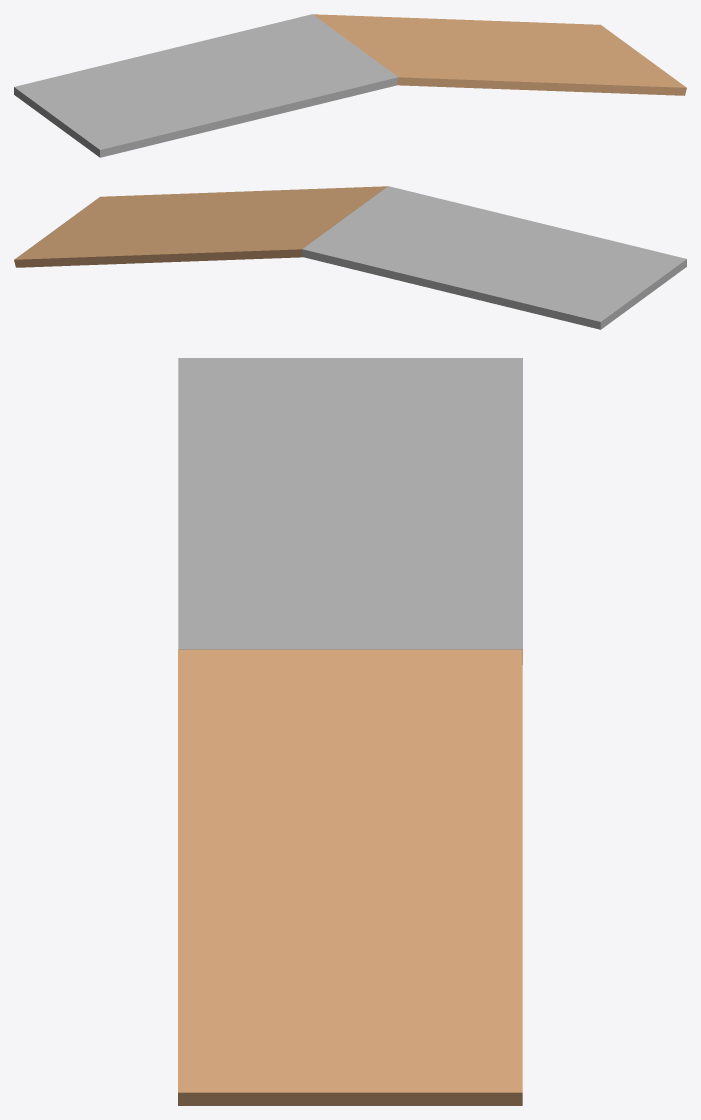
The model's file is backup_ramp_alley.dae.
3 renders of one model, top to bottom at view 1: azimuth 30°, elevation 25°; view 2: azimuth 150°, elevation 25°; view 3: azimuth 270°, elevation 25°, orthographic. The views are drawn at different scales.
Visible parts, largest first — view 1: Alley, Ramp; view 2: Alley, Ramp; view 3: Ramp, Alley.
Part boxes in pixels (x1,y1,x2,y2): Alley: (14, 14, 398, 157); Ramp: (313, 14, 686, 95); Alley: (302, 186, 686, 329); Ramp: (14, 186, 387, 267); Ramp: (178, 649, 522, 1105); Alley: (178, 358, 522, 664).
Size of the model in its own units: 1.97 by 0.5001 by 0.2834.
